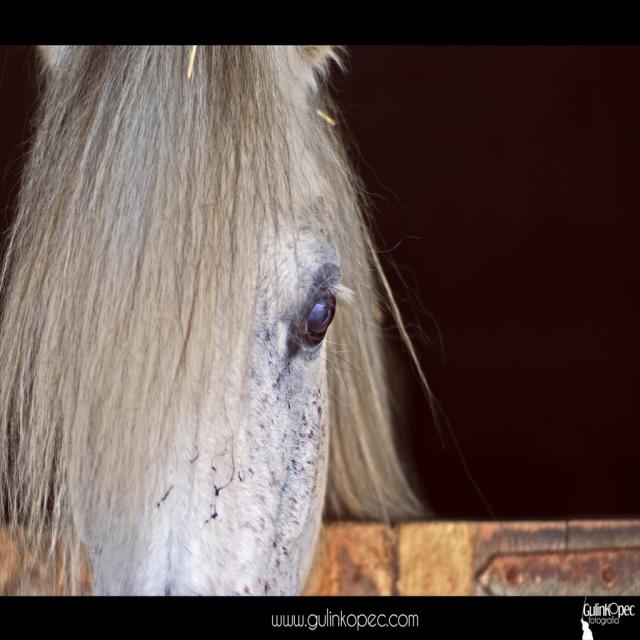Horse: (0, 40, 454, 603)
